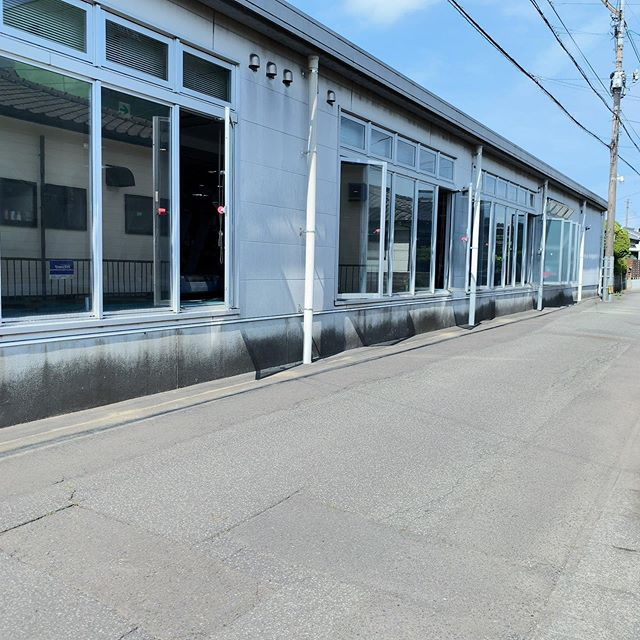building: (11, 1, 615, 437)
window: (1, 13, 241, 316), (339, 110, 454, 304), (468, 164, 541, 303)
